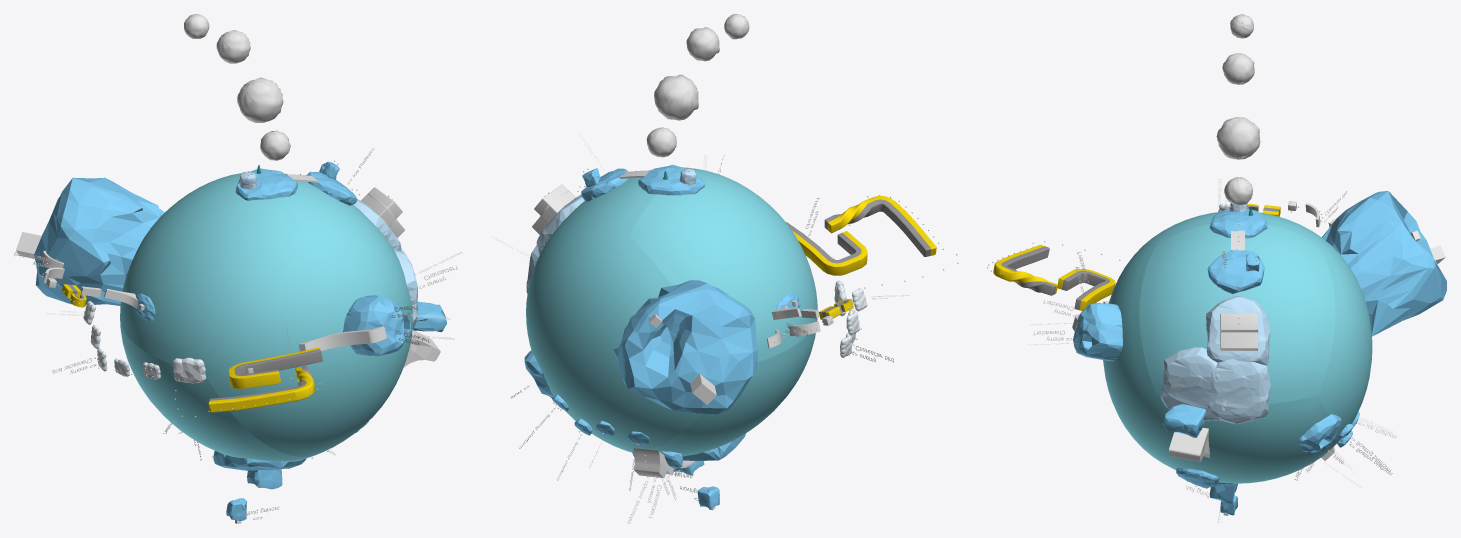
The model's file is UD Level design last Ice world.FBX.
3 renders of one model, left to right at view 1: azimuth 30°, elevation 25°; view 2: azimuth 150°, elevation 25°; view 3: azimuth 270°, elevation 25°, orthographic. The views are drawn at different scales.
Parts seen in each view (by area): view 1: PROP_Liquid01_1, PROP_Liquid01_2, PROP_Ice_FlyingIsland016, PROP_Liquid01_6, PROP_Liquid01_3, PROP_Ice_FlyingIsland013, Sphere002, Box007, PROP_Ice_FlyingIsland01, Box005, Box010, PROP_Ice_FlyingIsland006 (+12 smaller); view 2: PROP_Liquid01_4, PROP_Liquid01_2, PROP_Ice_FlyingIsland016, PROP_Liquid01_6, PROP_Liquid01_3, Sphere002, PROP_Ice_FlyingIsland01, Box009, Box008, Box007, Box004, Sphere003 (+7 smaller); view 3: PROP_Liquid01_3, PROP_Ice_FlyingIsland016, PROP_Liquid01_5, PROP_Liquid01_4, PROP_Liquid01_1, PROP_Ice_FloorS007, PROP_Ice_FloorS008, PROP_Ice_FlyingIsland013, PROP_Ice_FloorS005, PROP_Ice_FlyingIsland003, Sphere002, Box004 (+12 smaller).
Boxes of the visible parts, x1=… form: PROP_Liquid01_1: x1=205, y1=240, x2=412, y2=456; PROP_Liquid01_2: x1=120, y1=174, x2=308, y2=372; PROP_Ice_FlyingIsland016: x1=34, y1=177, x2=164, y2=305; PROP_Liquid01_6: x1=120, y1=319, x2=307, y2=461; PROP_Liquid01_3: x1=234, y1=173, x2=412, y2=321; PROP_Ice_FlyingIsland013: x1=343, y1=295, x2=411, y2=356; Sphere002: x1=237, y1=77, x2=283, y2=122; Box007: x1=208, y1=367, x2=314, y2=412; PROP_Ice_FlyingIsland01: x1=235, y1=168, x2=298, y2=200; Box005: x1=298, y1=326, x2=386, y2=351; Box010: x1=234, y1=349, x2=322, y2=375; PROP_Ice_FlyingIsland006: x1=213, y1=451, x2=306, y2=470; PROP_Liquid01_4: x1=526, y1=235, x2=701, y2=451; PROP_Liquid01_2: x1=630, y1=170, x2=817, y2=361; PROP_Ice_FlyingIsland016: x1=613, y1=280, x2=757, y2=414; PROP_Liquid01_6: x1=630, y1=318, x2=817, y2=456; PROP_Liquid01_3: x1=526, y1=167, x2=703, y2=316; Sphere002: x1=654, y1=74, x2=698, y2=120; PROP_Ice_FlyingIsland01: x1=638, y1=164, x2=705, y2=195; Box009: x1=824, y1=199, x2=930, y2=256; Box008: x1=792, y1=231, x2=867, y2=275; Box007: x1=827, y1=195, x2=936, y2=255; Box004: x1=532, y1=184, x2=575, y2=234; Sphere003: x1=686, y1=27, x2=719, y2=61; PROP_Liquid01_3: x1=1139, y1=224, x2=1335, y2=403; PROP_Ice_FlyingIsland016: x1=1322, y1=191, x2=1446, y2=336; PROP_Liquid01_5: x1=1139, y1=395, x2=1335, y2=483; PROP_Liquid01_4: x1=1318, y1=243, x2=1372, y2=446; PROP_Liquid01_1: x1=1103, y1=243, x2=1156, y2=445; PROP_Ice_FloorS007: x1=1207, y1=359, x2=1270, y2=424; PROP_Ice_FloorS008: x1=1160, y1=347, x2=1219, y2=420; PROP_Ice_FlyingIsland013: x1=1073, y1=303, x2=1122, y2=361; PROP_Ice_FloorS005: x1=1206, y1=296, x2=1270, y2=365; PROP_Ice_FlyingIsland003: x1=1207, y1=249, x2=1264, y2=293; Sphere002: x1=1216, y1=117, x2=1260, y2=159; Box004: x1=1220, y1=313, x2=1257, y2=350.
Size of the model in its own units: 12379 by 14488 by 12477.
